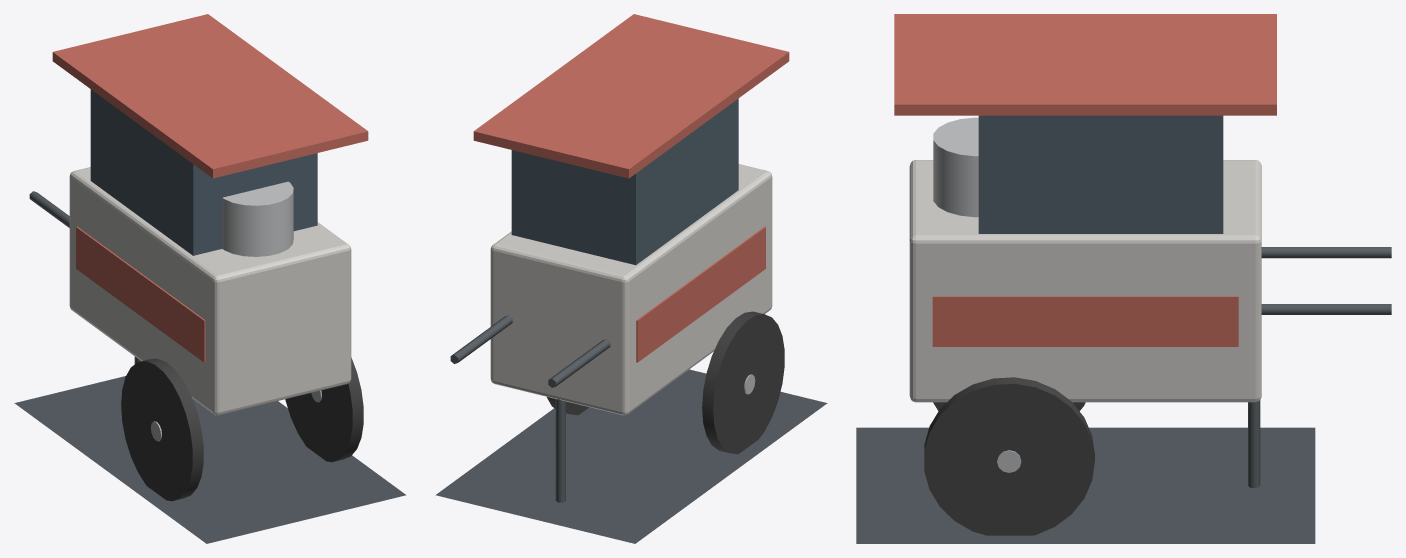
File: gerobak.glb
3 renders of one model, left to right at view 1: azimuth 30°, elevation 25°; view 2: azimuth 150°, elevation 25°; view 3: azimuth 270°, elevation 25°, orthographic. The views are drawn at different scales.
Visible parts, largest first — view 1: main; view 2: main; view 3: main.
Part boxes in pixels (x1,y1,x2,y2): main: (14,14,406,543); main: (435,14,827,543); main: (856,14,1391,543).
Bounding box in the file's own units: 0.9 × 1.55 × 1.75.
